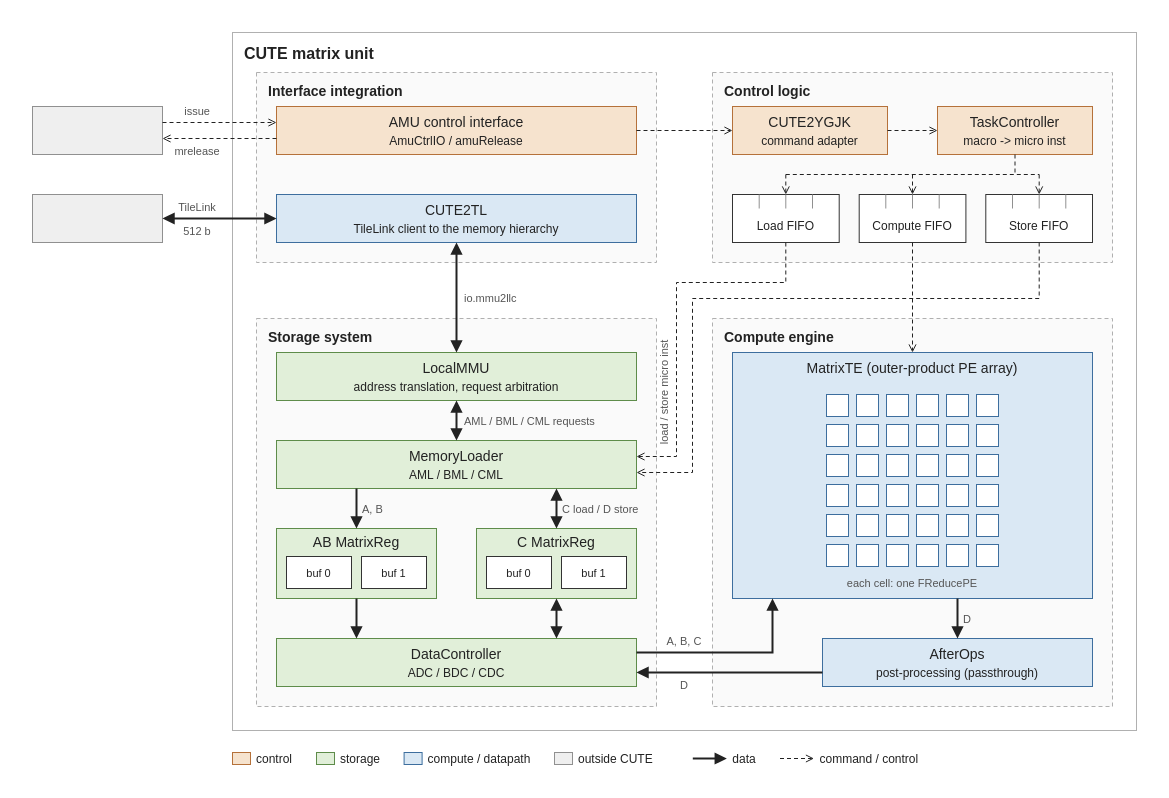
The diagram is 1169 pixels wide and 798 high, and some of its shapes have lost their labels. The shapes that lost their labels are listed below. From the top down, each one's centre as x and y in pixels, then its label:
point 97,130: Scalar core
point 97,218: HBL2 / LLC
